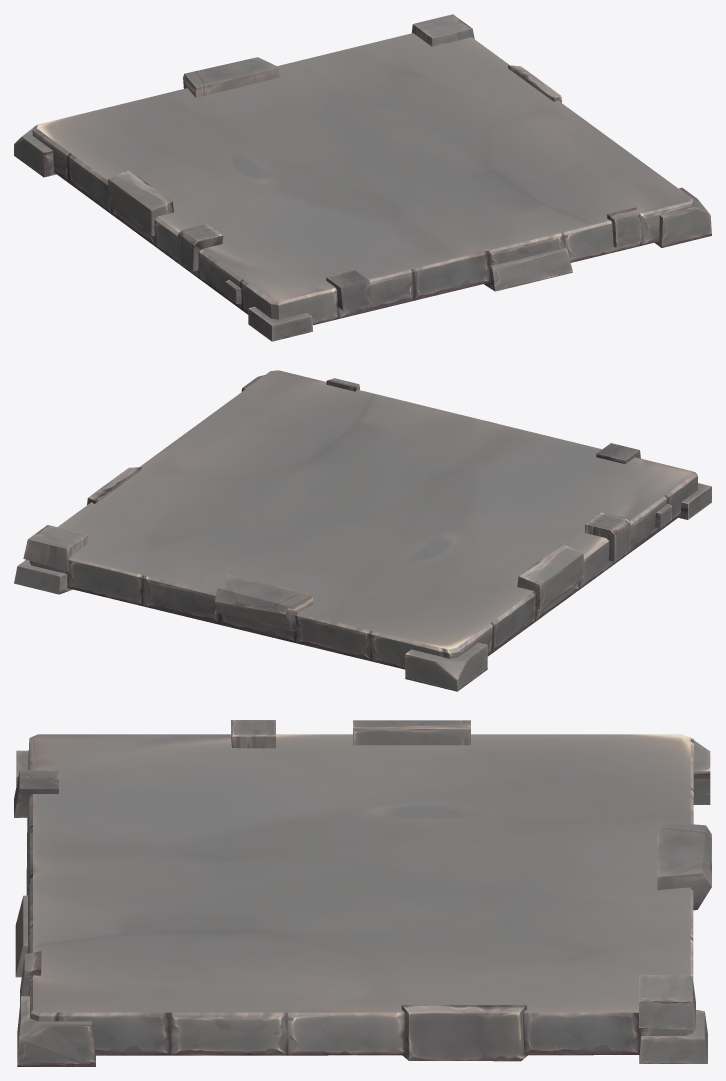
The model's file is SM_BLD_base_v02_01.fbx.
3 renders of one model, top to bottom at view 1: azimuth 30°, elevation 25°; view 2: azimuth 150°, elevation 25°; view 3: azimuth 270°, elevation 25°, orthographic. The views are drawn at different scales.
Visible parts, largest first — view 1: SM_BLD_base_v02_01; view 2: SM_BLD_base_v02_01; view 3: SM_BLD_base_v02_01.
Boxes of the visible parts, x1,y1,x2,y2 form: SM_BLD_base_v02_01: (14,14,711,341); SM_BLD_base_v02_01: (14,370,711,691); SM_BLD_base_v02_01: (14,720,711,1066).
Size of the model in its own units: 620 by 63.39 by 622.
